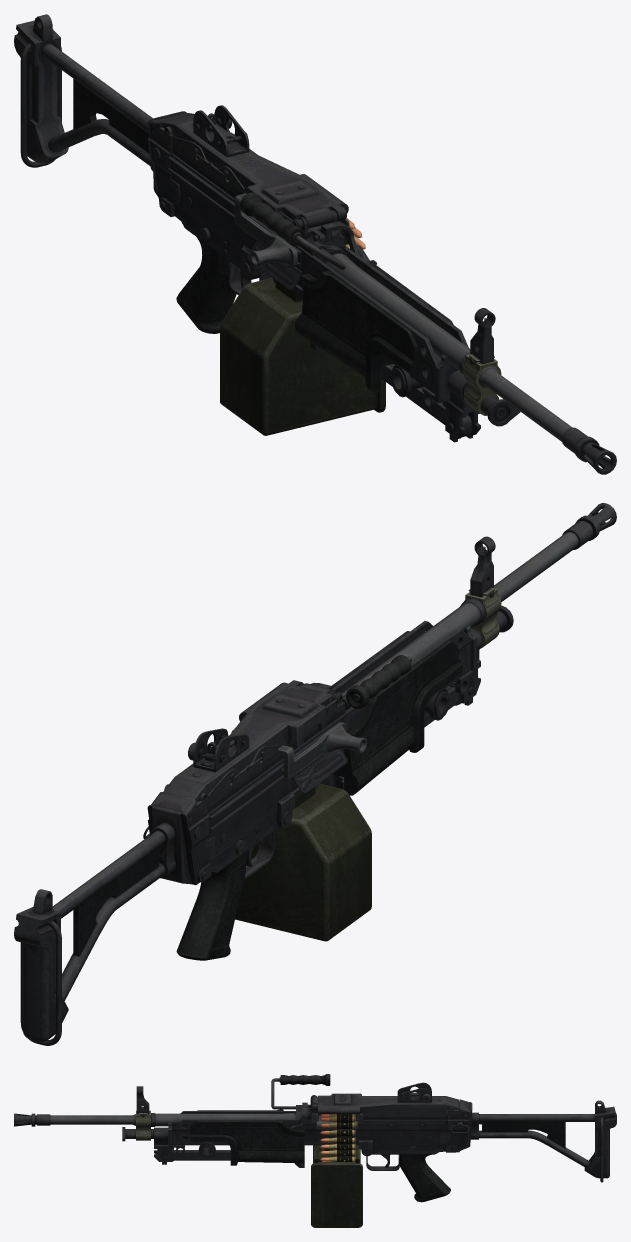
Rendered from g_negev.glb.
The picture shows the model from 3 angles, top to bottom: view 1: azimuth 30°, elevation 25°; view 2: azimuth 150°, elevation 25°; view 3: azimuth 270°, elevation 25°; orthographic projection. The views are drawn at different scales.
Visible parts, largest first — view 1: base, mag_piece, cover, handle, loader, loaderlid, ejector; view 2: base, mag_piece, cover, loader, handle, ejector, loaderlid; view 3: base, mag_piece, cover, handle.
Boxes of the visible parts, x1=… form: base: x1=14, y1=14, x2=616, y2=474; mag_piece: x1=220, y1=278, x2=385, y2=435; cover: x1=162, y1=105, x2=348, y2=228; handle: x1=240, y1=192, x2=345, y2=269; loader: x1=234, y1=193, x2=297, y2=267; loaderlid: x1=172, y1=136, x2=244, y2=194; ejector: x1=247, y1=242, x2=301, y2=290; base: x1=14, y1=503, x2=616, y2=1045; mag_piece: x1=235, y1=783, x2=371, y2=941; cover: x1=163, y1=680, x2=341, y2=802; loader: x1=278, y1=722, x2=366, y2=778; handle: x1=346, y1=655, x2=411, y2=708; ejector: x1=293, y1=749, x2=347, y2=793; loaderlid: x1=208, y1=745, x2=278, y2=803; base: x1=14, y1=1086, x2=616, y2=1202; mag_piece: x1=311, y1=1145, x2=362, y2=1227; cover: x1=310, y1=1082, x2=459, y2=1117; handle: x1=271, y1=1074, x2=330, y2=1109.
Size of the model in its own units: 0.1303 by 0.2338 by 1.01.
1 material, 1 textured.
